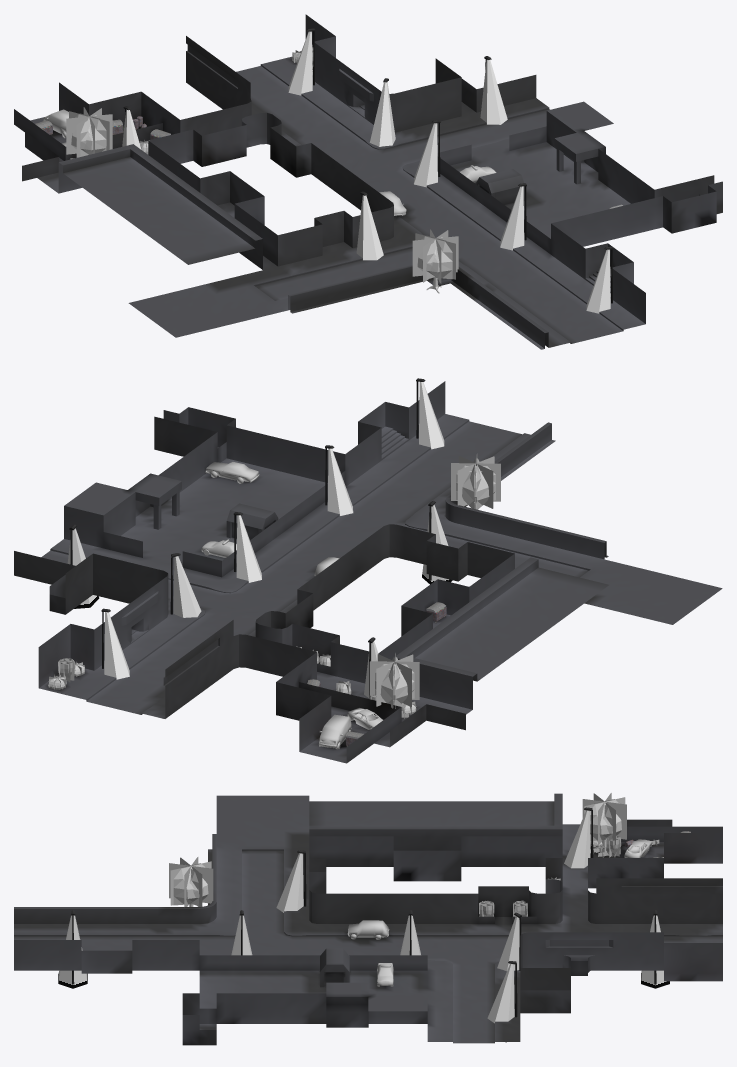
File: Village.fbx
3 views of the same model, one above another, from view 1: azimuth 30°, elevation 25°; view 2: azimuth 150°, elevation 25°; view 3: azimuth 270°, elevation 25° (orthographic). The views are drawn at different scales.
Parts seen in each view (by area): view 1: Terrain, Tree1.001, Tree1, Streetlamp.007, Streetlamp, Streetlamp.004, Streetlamp.003, Streetlamp.001, Streetlamp.005, Streetlamp.002; view 2: Terrain, Tree1.001, Tree1, Streetlamp.005, Streetlamp.004, Streetlamp.002, Streetlamp.001, Streetlamp, Car4, Car5, Streetlamp.007, Streetlamp.003; view 3: Terrain, Tree1.001, Tree1, Streetlamp.003, Streetlamp.007, Streetlamp.006, Streetlamp.002, Streetlamp.005, Car, Streetlamp.001, Streetlamp, Streetlamp.004.
Part boxes in pixels (<box>): Terrain: <box>14,14,722,349</box>; Tree1.001: <box>412,229,458,293</box>; Tree1: <box>66,107,112,157</box>; Streetlamp.007: <box>356,191,383,260</box>; Streetlamp: <box>413,120,440,187</box>; Streetlamp.004: <box>500,183,526,250</box>; Streetlamp.003: <box>480,56,507,124</box>; Streetlamp.001: <box>288,28,315,95</box>; Streetlamp.005: <box>586,246,613,313</box>; Streetlamp.002: <box>369,78,395,146</box>; Terrain: <box>14,381,722,763</box>; Tree1.001: <box>451,453,500,509</box>; Tree1: <box>369,653,419,708</box>; Streetlamp.005: <box>416,378,444,449</box>; Streetlamp.004: <box>325,445,353,515</box>; Streetlamp.002: <box>170,553,201,617</box>; Streetlamp.001: <box>101,608,129,679</box>; Streetlamp: <box>233,512,261,582</box>; Car4: <box>318,714,351,749</box>; Car5: <box>205,462,259,483</box>; Streetlamp.007: <box>422,500,452,584</box>; Streetlamp.003: <box>67,524,99,608</box>; Terrain: <box>14,793,722,1045</box>; Tree1.001: <box>169,857,213,906</box>; Tree1: <box>582,793,626,846</box>; Streetlamp.003: <box>487,961,517,1042</box>; Streetlamp.007: <box>276,850,306,912</box>; Streetlamp.006: <box>564,807,593,868</box>; Streetlamp.002: <box>497,912,521,971</box>; Streetlamp.005: <box>58,910,87,988</box>; Car: <box>347,920,389,939</box>; Streetlamp.001: <box>641,910,669,988</box>; Streetlamp: <box>400,910,420,955</box>; Streetlamp.004: <box>231,910,252,955</box>.
Size of what is drawn, in the model's own units: 7200 by 1001 by 8400.
